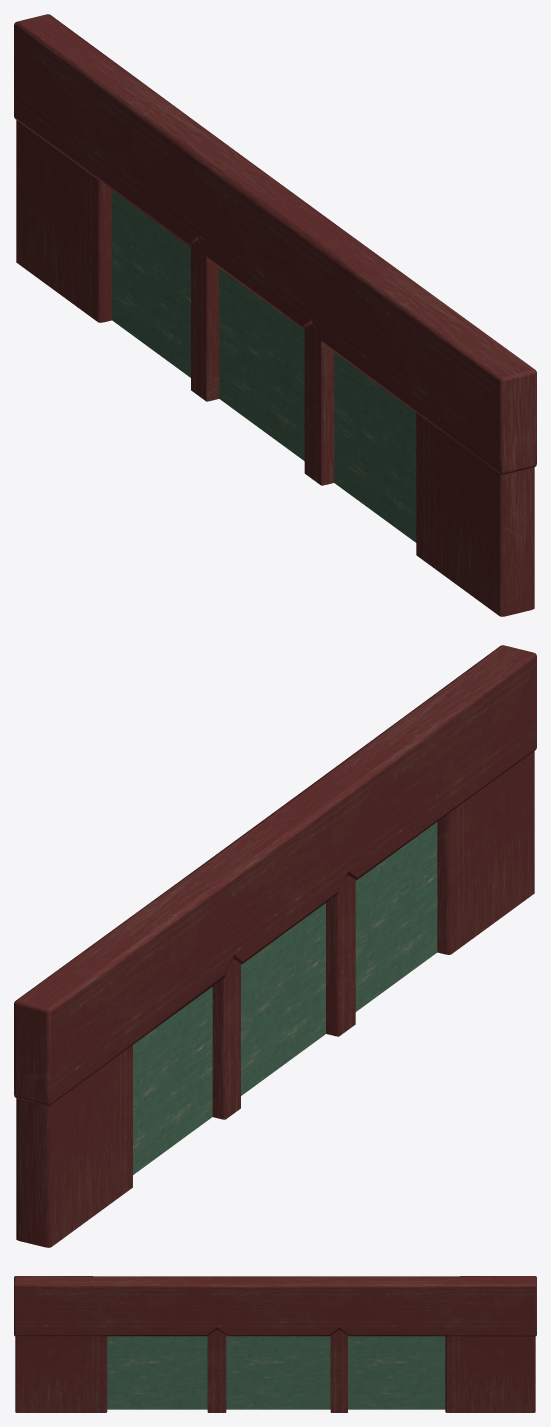
File: SM_Railing02b.fbx
3 renders of one model, top to bottom at view 1: azimuth 30°, elevation 25°; view 2: azimuth 150°, elevation 25°; view 3: azimuth 270°, elevation 25°, orthographic. The views are drawn at different scales.
Parts seen in each view (by area): view 1: SM_Railing02b; view 2: SM_Railing02b; view 3: SM_Railing02b.
Part boxes in pixels (x1,y1,x2,y2): SM_Railing02b: (14,14,536,616); SM_Railing02b: (14,645,536,1247); SM_Railing02b: (14,1276,536,1412).
Bounding box in the file's own units: 7 × 160 × 43.26.
Materials: 2 (2 with a texture image).
